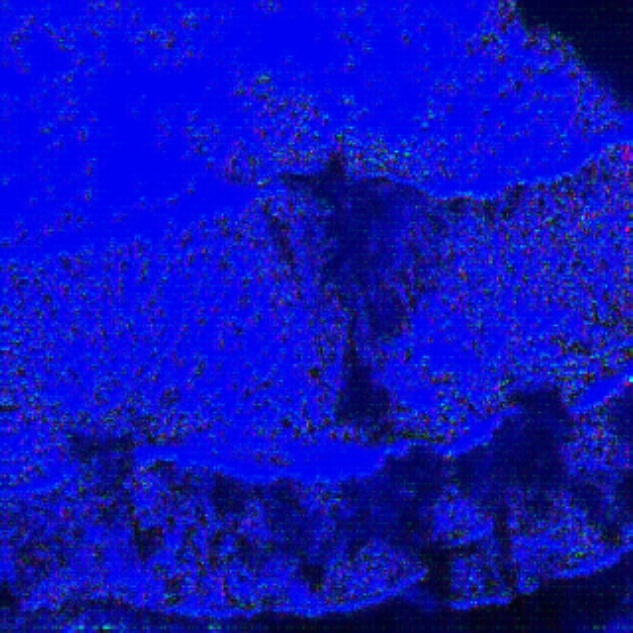rip_current: (232, 115, 480, 521)
